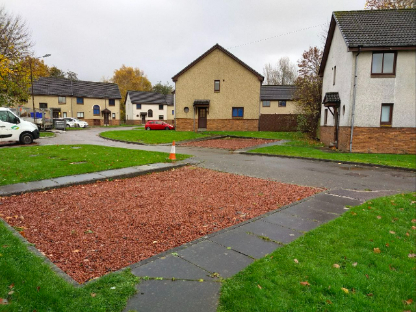car: (0, 106, 43, 145), (59, 114, 88, 133), (143, 119, 174, 132)
